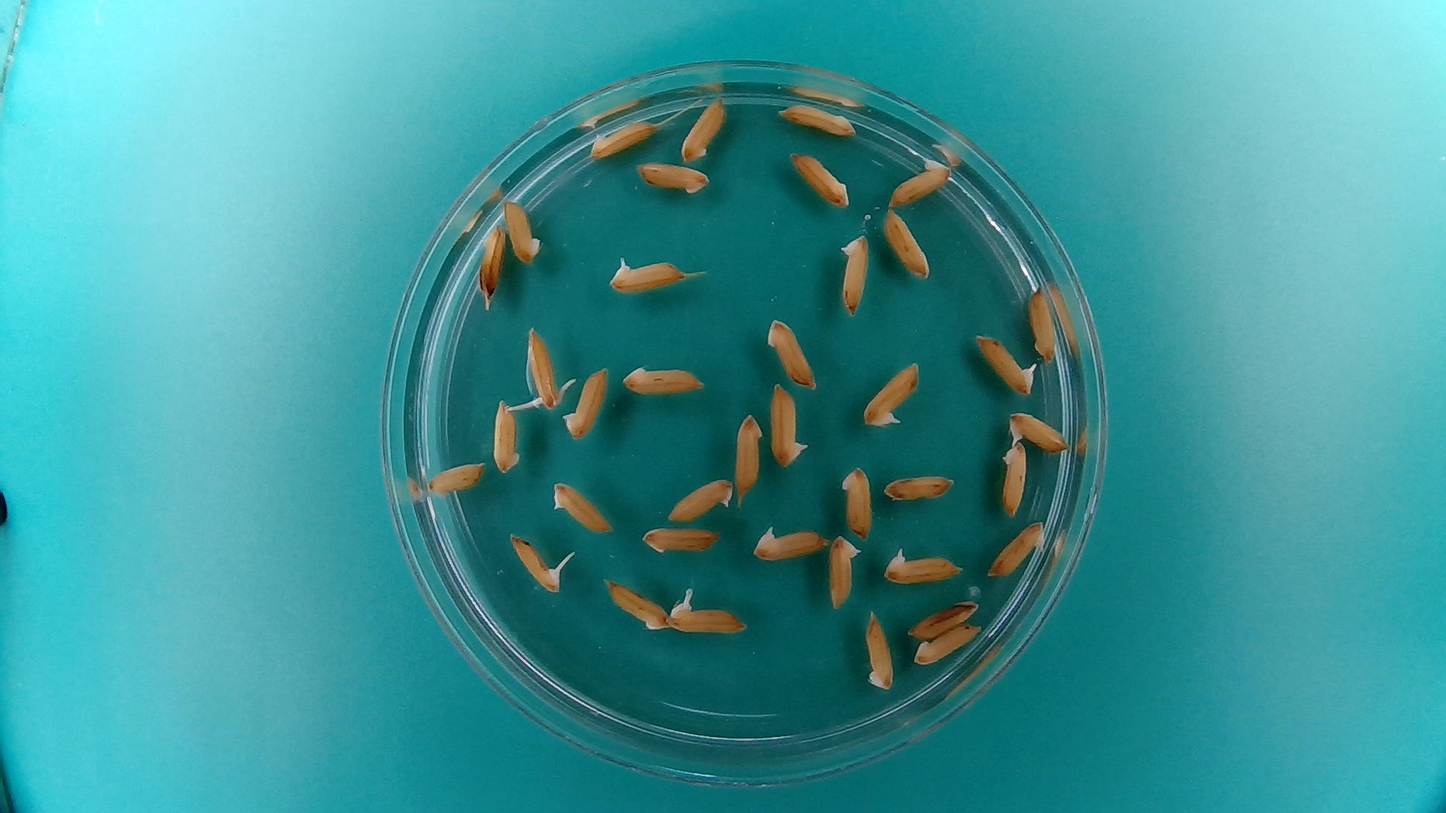no: (560, 361, 613, 443), (600, 575, 671, 633), (548, 477, 618, 535), (786, 148, 853, 208), (881, 206, 933, 282), (766, 314, 819, 388), (984, 518, 1048, 579), (618, 358, 710, 400), (663, 473, 737, 525), (886, 154, 954, 208), (677, 96, 730, 163), (776, 99, 858, 139), (633, 157, 714, 197), (502, 192, 545, 266), (825, 531, 864, 612), (637, 522, 723, 558), (835, 230, 870, 318), (837, 461, 875, 542), (587, 119, 660, 161), (862, 606, 897, 693), (732, 410, 765, 502), (1026, 282, 1063, 364), (912, 623, 982, 666), (908, 599, 981, 640), (879, 467, 959, 504), (475, 222, 505, 309), (490, 397, 523, 476), (424, 460, 488, 500), (999, 437, 1027, 519)
yes: (972, 329, 1036, 397), (864, 357, 923, 428), (767, 380, 810, 471), (509, 537, 572, 595), (522, 325, 563, 413), (748, 521, 831, 564), (1005, 408, 1072, 453), (880, 551, 960, 586), (609, 257, 685, 292), (666, 604, 744, 637)
